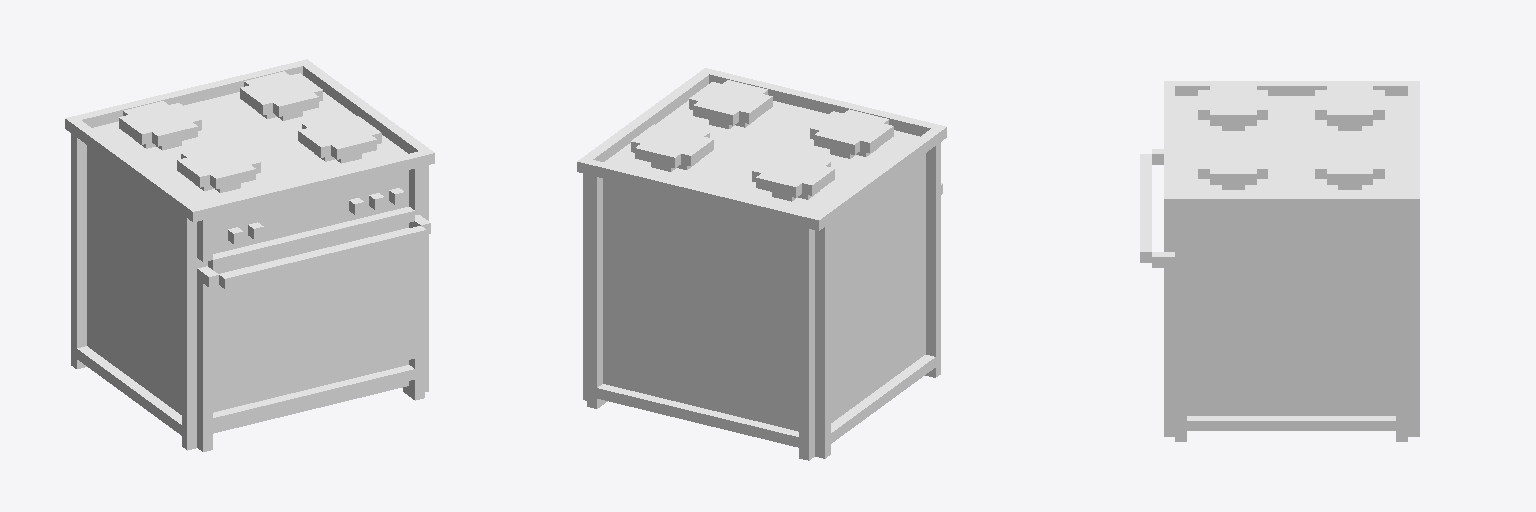
File: prop_oven.obj
The picture shows the model from 3 angles: view 1: azimuth 30°, elevation 25°; view 2: azimuth 150°, elevation 25°; view 3: azimuth 270°, elevation 25°; orthographic projection.
Visible parts, largest first — view 1: object 1; view 2: object 1; view 3: object 1.
Boxes of the visible parts, box(x1,y1,x2,y2) form: object 1: box(65, 59, 434, 451); object 1: box(577, 68, 946, 460); object 1: box(1140, 81, 1419, 441).
Size of the model in its own units: 2.4 by 2.4 by 2.4.